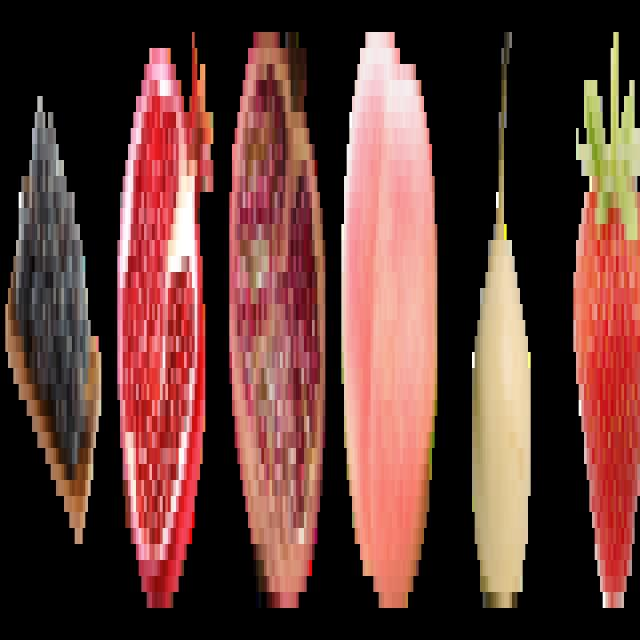grape: (5, 48, 104, 588)
peach: (339, 13, 444, 623)
pear: (459, 19, 541, 629)
pomegranate: (227, 16, 329, 622), (114, 22, 216, 620)
strawberry: (565, 16, 640, 624)
